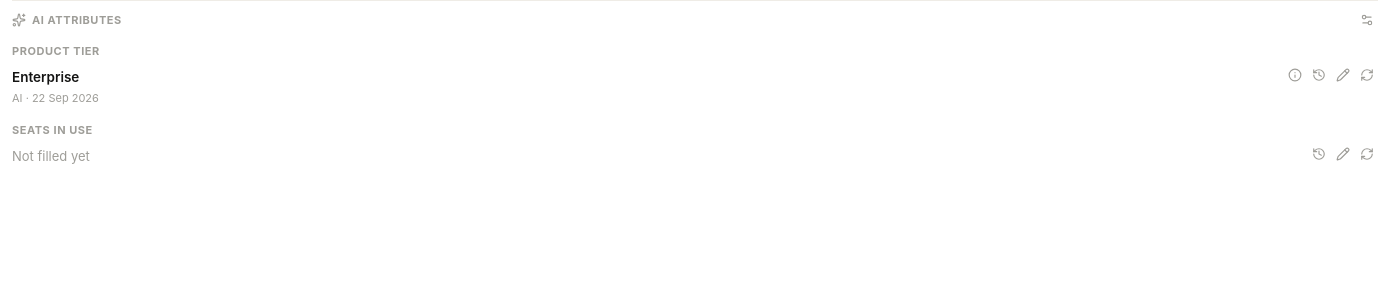
Test: AIAttributesPanel › shows each attribute with its latest value, why and sources
The width and height of the screenshot is (1390, 299).
Expected: the text "Product tier" is shown, [12,44,100,58]
Expected: the text "Enterprise" is shown, [12,68,79,84]
What coordinates should you click on to do the following:
click the button named "Why Product tier: Enterprise?"
I would click on:
 (1295, 74)
Its box is [1284,64,1306,86].
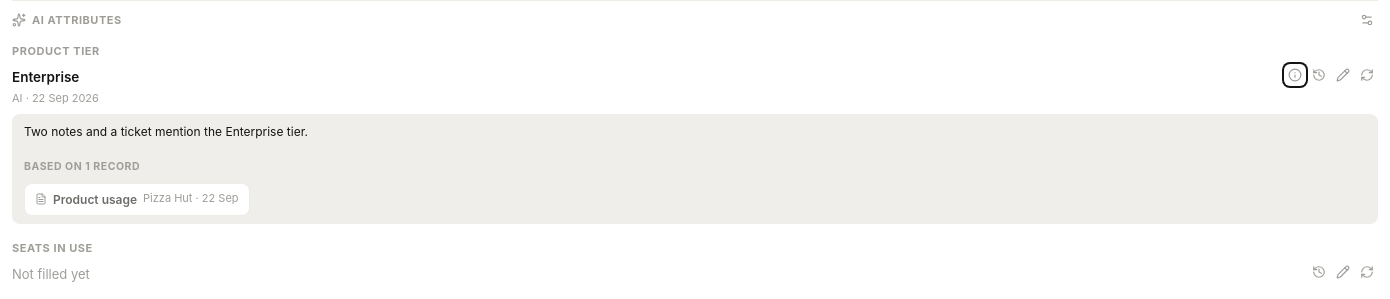
Expected: the text "Two notes and a ticket mention the Enterprise tier." is shown, [24,124,308,139]
